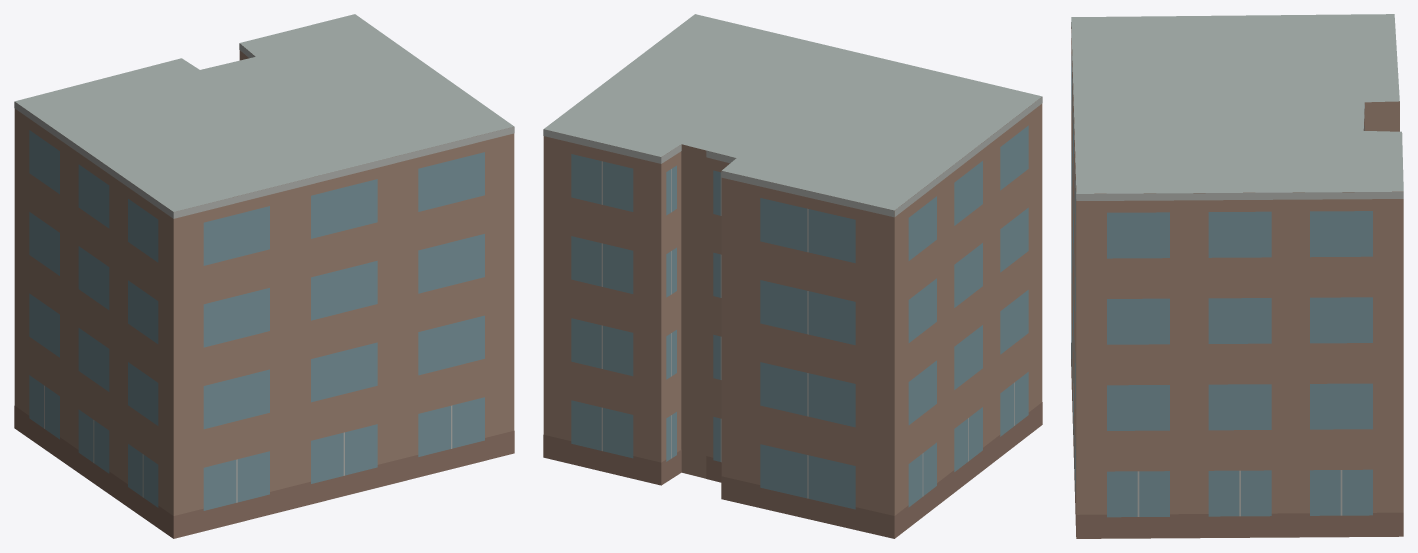
Rendered from survey-upis-32638598.glb.
The picture shows the model from 3 angles, left to right: view 1: azimuth 30°, elevation 25°; view 2: azimuth 150°, elevation 25°; view 3: azimuth 270°, elevation 25°; orthographic projection. The views are drawn at different scales.
Parts seen in each view (by area): view 1: survey-upis-32638598.tmp; view 2: survey-upis-32638598.tmp; view 3: survey-upis-32638598.tmp.
Part boxes in pixels (x1,y1,x2,y2): survey-upis-32638598.tmp: (14, 14, 514, 538); survey-upis-32638598.tmp: (543, 14, 1042, 538); survey-upis-32638598.tmp: (1071, 14, 1403, 538).
Bounding box in the file's own units: 13.02 × 11.63 × 10.17.
